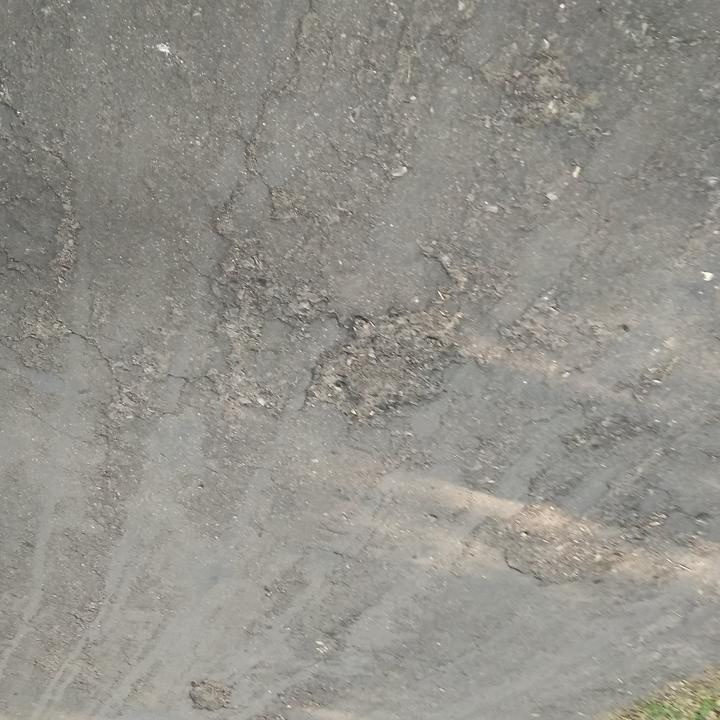pothole: (318, 304, 472, 424), (499, 529, 624, 589), (183, 676, 238, 716)
